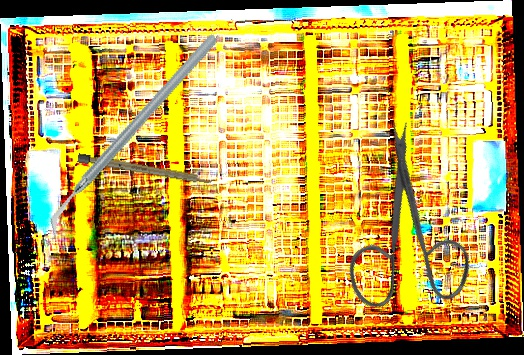Chopper: (1, 31, 264, 241)
Iris Scissors: (285, 113, 516, 346)
Scalpel Handle: (77, 153, 213, 186)
